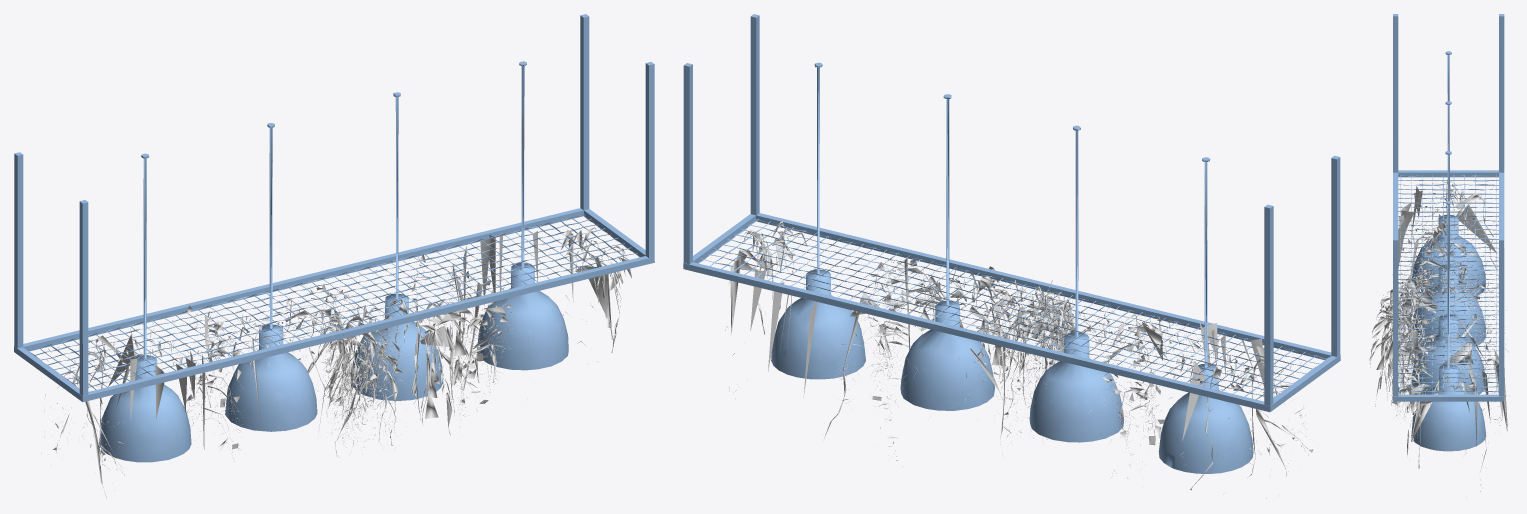
The model's file is plant-pendant.mobile.glb.
3 renders of one model, left to right at view 1: azimuth 30°, elevation 25°; view 2: azimuth 150°, elevation 25°; view 3: azimuth 270°, elevation 25°, orthographic. The views are drawn at different scales.
Visible parts, largest first — view 1: plant-pendant_wire_088144225, plant-pendant_wire_204204204; view 2: plant-pendant_wire_088144225, plant-pendant_wire_204204204; view 3: plant-pendant_wire_088144225, plant-pendant_wire_204204204.
Part boxes in pixels (left/top/right/bottom): plant-pendant_wire_088144225: left=14, top=14, right=654, bottom=462; plant-pendant_wire_204204204: left=41, top=227, right=631, bottom=498; plant-pendant_wire_088144225: left=683, top=14, right=1340, bottom=473; plant-pendant_wire_204204204: left=725, top=221, right=1313, bottom=498; plant-pendant_wire_088144225: left=1393, top=14, right=1504, bottom=451; plant-pendant_wire_204204204: left=1369, top=180, right=1508, bottom=491.
Bounding box in the file's own units: 2.01 × 1.17 × 0.535.
